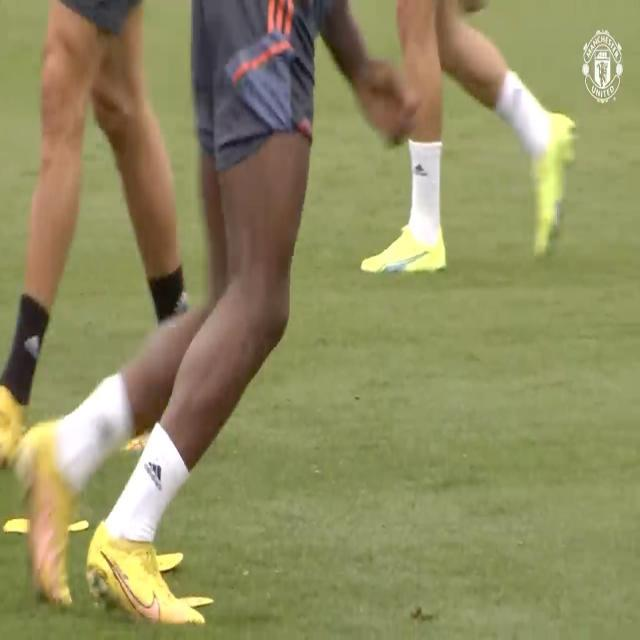Adidas: (144, 458, 164, 490), (25, 333, 41, 359), (413, 159, 428, 181)
